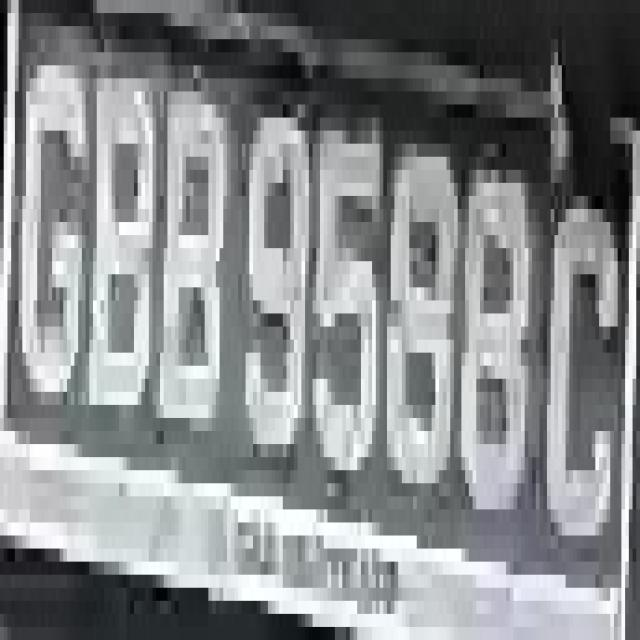5: (309, 78, 379, 510)
8: (461, 131, 536, 548), (391, 118, 461, 536)
9: (238, 52, 309, 510)
B: (82, 13, 160, 418), (160, 66, 231, 497)
C: (540, 157, 622, 588)
G: (7, 26, 93, 444)
